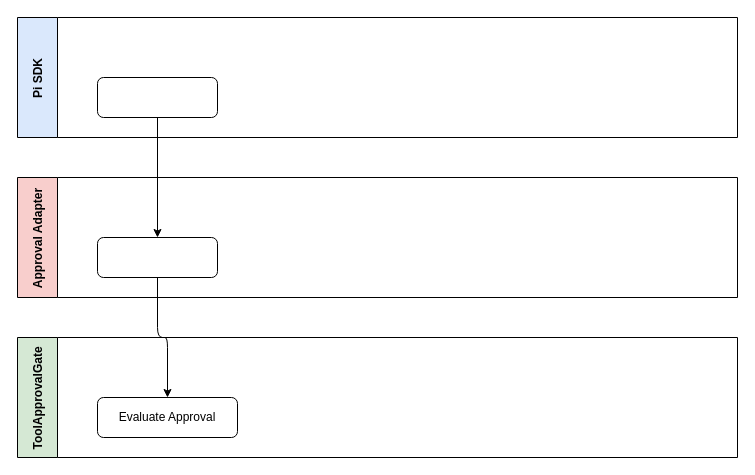
Image size: 755x475. Some labels were removed from this diagram. Each missing label, with the centre of its shape:
Normalize ID: pixel 157 257
Tool Call: pixel 157 97
